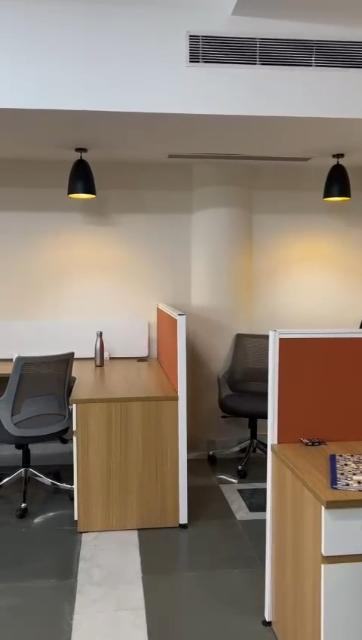floor: (2, 467, 278, 640)
object: (275, 420, 362, 640), (82, 375, 183, 529), (1, 350, 73, 518), (221, 336, 263, 496), (88, 332, 110, 370)
wall: (7, 204, 361, 306), (1, 0, 171, 144), (164, 72, 361, 148), (111, 167, 318, 213), (0, 111, 62, 246), (163, 3, 362, 30), (194, 304, 218, 432), (192, 310, 356, 328)
